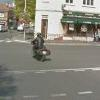Motorcycle: (20, 32, 58, 63)
